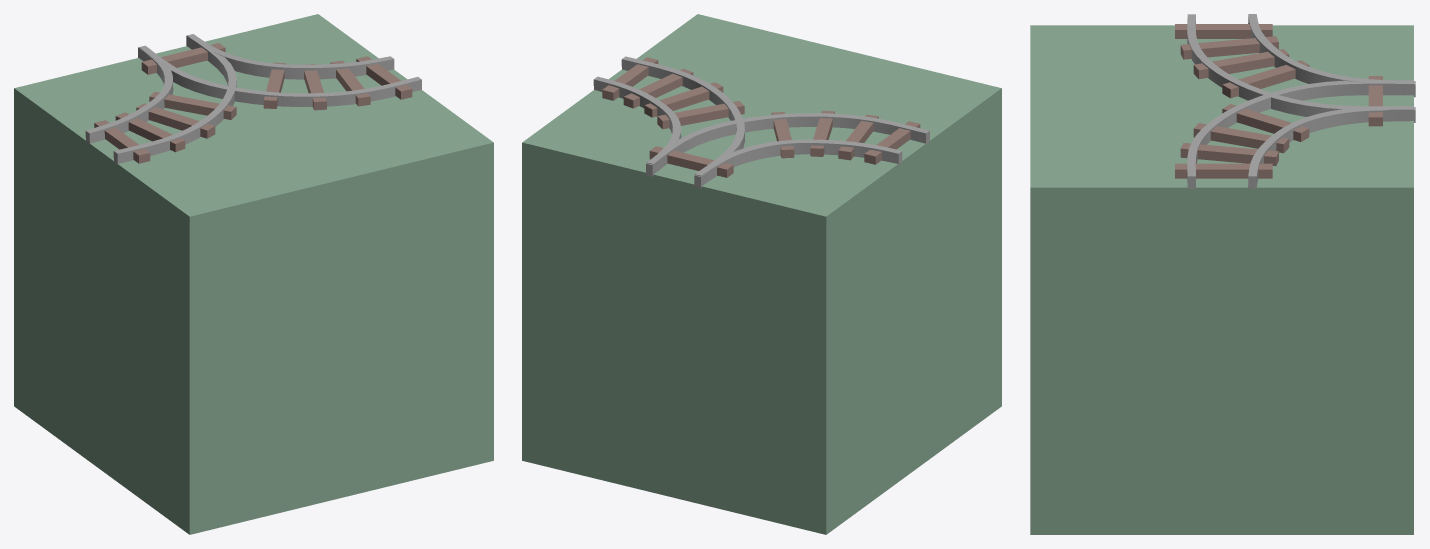
Rendered from Switch_LeftRight.fbx.
3 views of the same model, side by side, from view 1: azimuth 30°, elevation 25°; view 2: azimuth 150°, elevation 25°; view 3: azimuth 270°, elevation 25° (orthographic). The views are drawn at different scales.
Visible parts, largest first — view 1: Vloer11; view 2: Vloer11; view 3: Vloer11.
Part boxes in pixels (x1,y1,x2,y2): Vloer11: (14, 14, 493, 534); Vloer11: (522, 14, 1001, 534); Vloer11: (1030, 14, 1415, 534).
Bounding box in the file's own units: 1 × 1.04 × 1.
